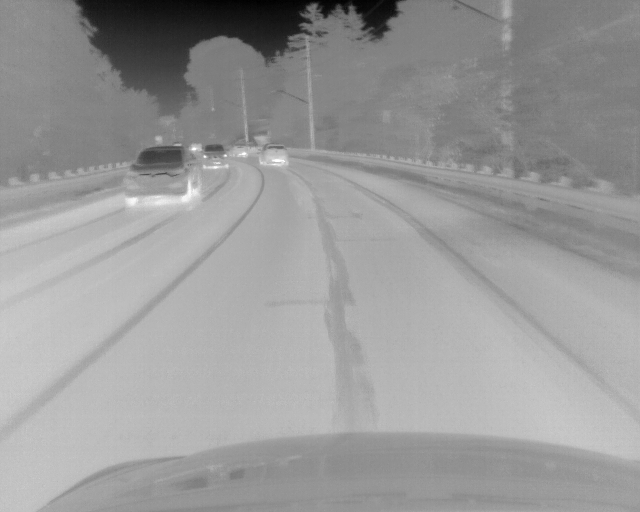car: (124, 146, 202, 206), (258, 143, 288, 168), (202, 143, 228, 169), (229, 145, 249, 160)
